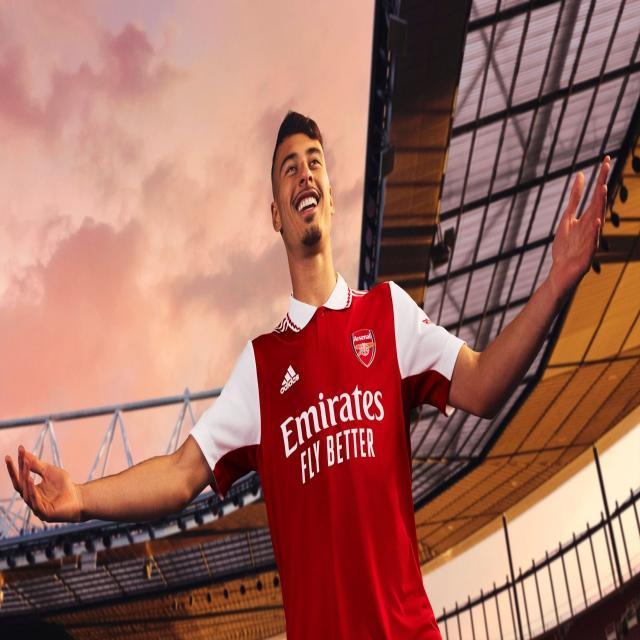Adidas: (280, 362, 300, 394)
Emirates: (277, 384, 385, 456)
